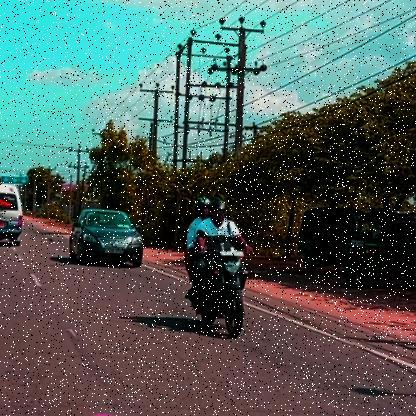motorcycle: (182, 245, 254, 340)
